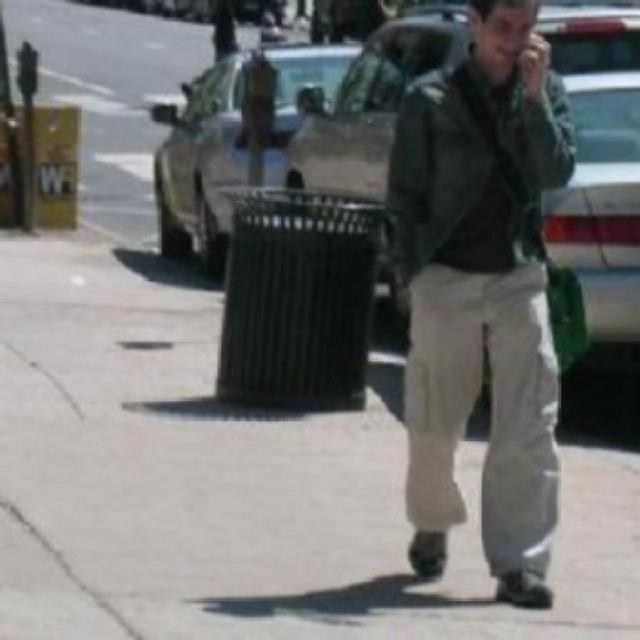Person: (392, 0, 583, 614)
